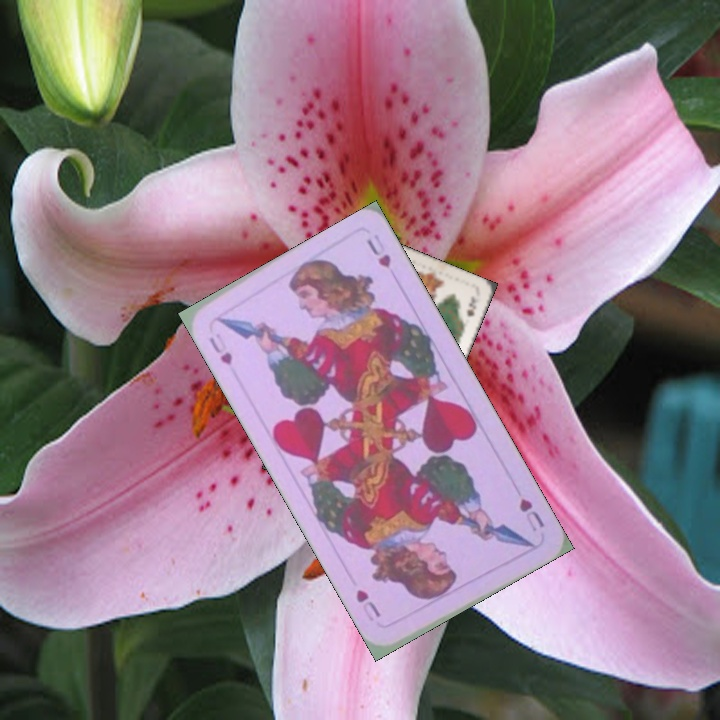HU: (515, 494, 548, 534), (205, 329, 235, 368)
